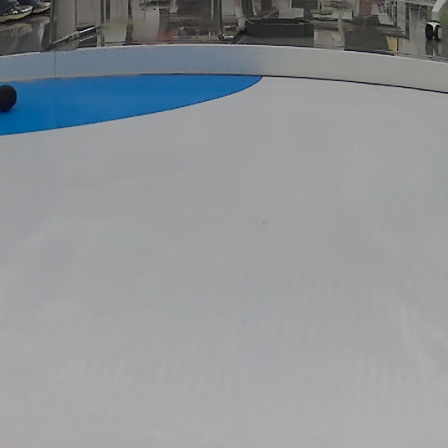black: (0, 87, 20, 113)
blue_base: (0, 70, 269, 133)
